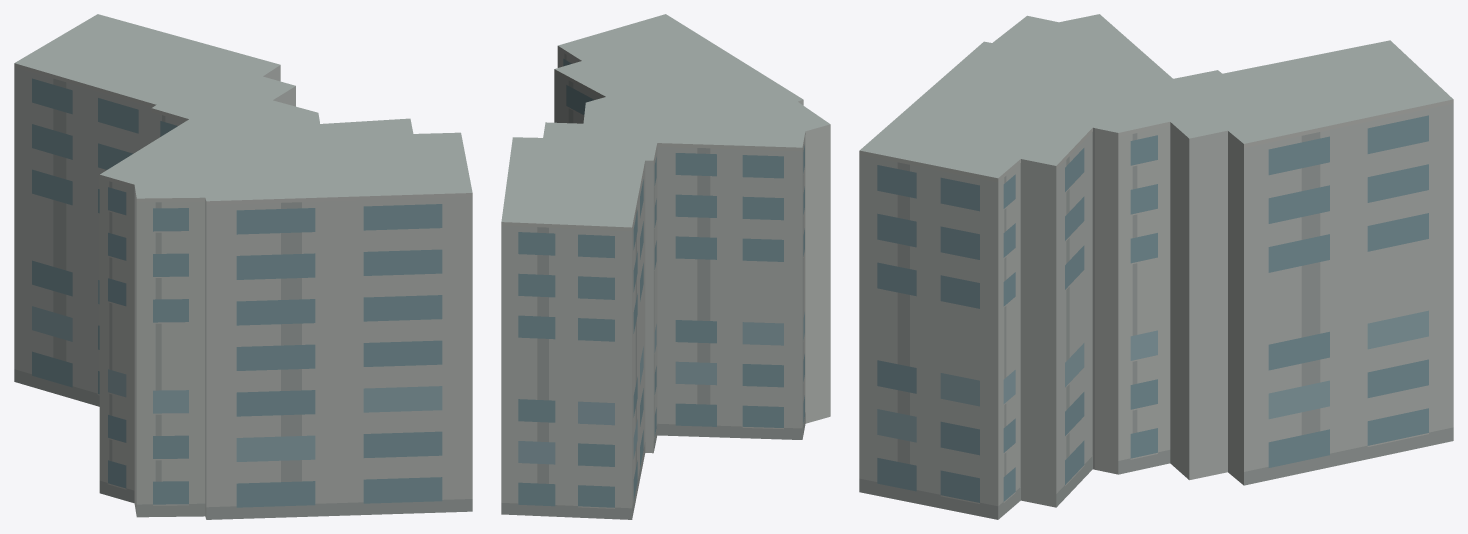
File: survey-upis-32696703.glb
3 views of the same model, side by side, from view 1: azimuth 30°, elevation 25°; view 2: azimuth 150°, elevation 25°; view 3: azimuth 270°, elevation 25° (orthographic). The views are drawn at different scales.
Visible parts, largest first — view 1: survey-upis-32696703.tmp; view 2: survey-upis-32696703.tmp; view 3: survey-upis-32696703.tmp.
Part boxes in pixels (box(x1,y1,x2,y2)): survey-upis-32696703.tmp: box(14, 14, 472, 519); survey-upis-32696703.tmp: box(501, 14, 830, 519); survey-upis-32696703.tmp: box(859, 14, 1453, 519).
Size of the model in its own units: 20.48 by 19.85 by 31.29.
